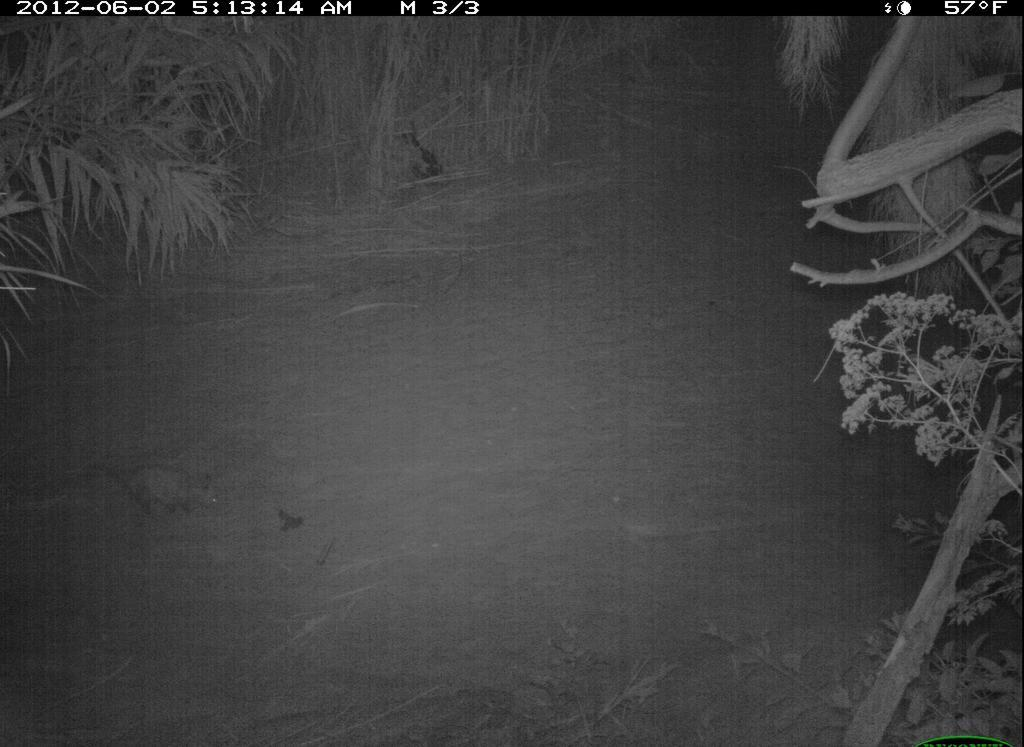opossum: (104, 447, 241, 524)
